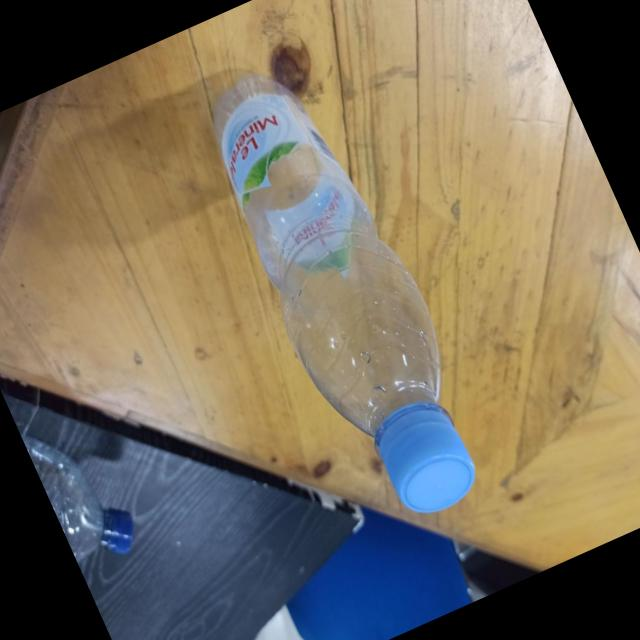BotolPlastik: (184, 47, 508, 540)
